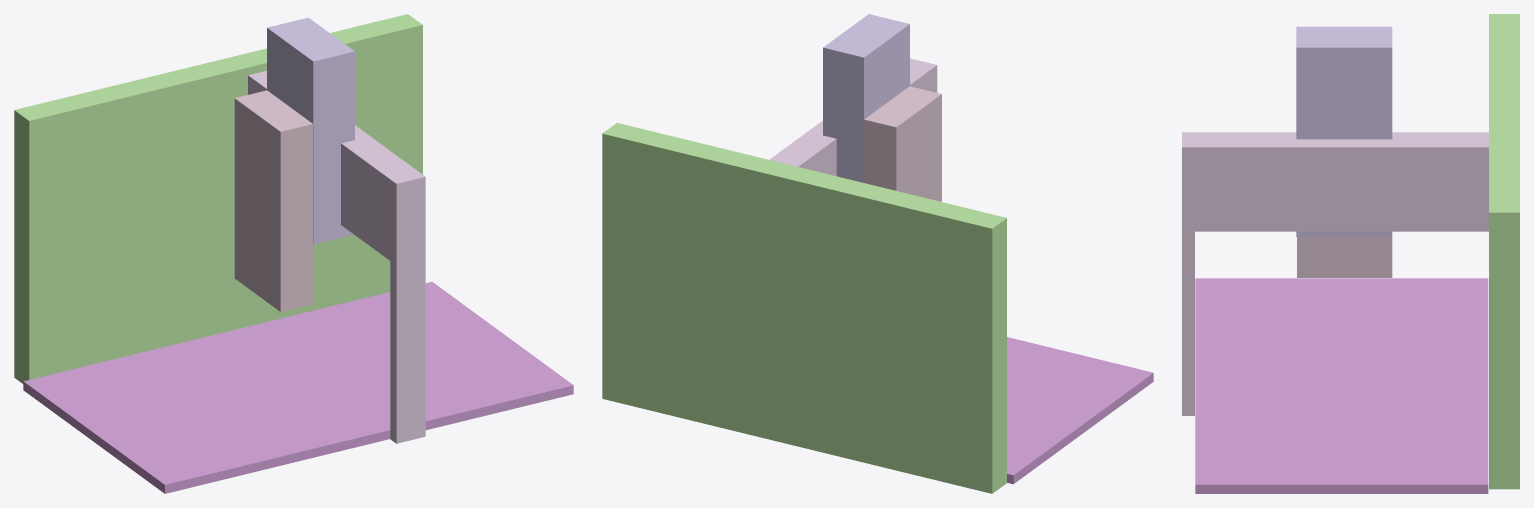
File: xyz_test01.glb
The picture shows the model from 3 angles, left to right: view 1: azimuth 30°, elevation 25°; view 2: azimuth 150°, elevation 25°; view 3: azimuth 270°, elevation 25°; orthographic projection. The views are drawn at different scales.
Visible parts, largest first — view 1: Box011, Box010, Box014, Box012, Box013; view 2: Box011, Box010, Box013, Box014, Box012; view 3: Box010, Box012, Box011, Box013, Box014.
Boxes of the visible parts, bbox=[...] form: Box011: bbox=[14, 14, 422, 383]; Box010: bbox=[23, 282, 573, 493]; Box014: bbox=[234, 90, 313, 311]; Box012: bbox=[248, 71, 425, 443]; Box013: bbox=[267, 17, 354, 244]; Box011: bbox=[602, 123, 1006, 493]; Box010: bbox=[1007, 337, 1153, 484]; Box013: bbox=[823, 14, 909, 182]; Box014: bbox=[864, 86, 941, 201]; Box012: bbox=[769, 58, 937, 176]; Box010: bbox=[1195, 278, 1488, 493]; Box012: bbox=[1182, 132, 1488, 415]; Box011: bbox=[1489, 14, 1519, 489]; Box013: bbox=[1296, 26, 1392, 236]; Box014: bbox=[1297, 237, 1392, 277].
Bounding box in the file's own units: 0.6319 × 0.5149 × 0.4375.
